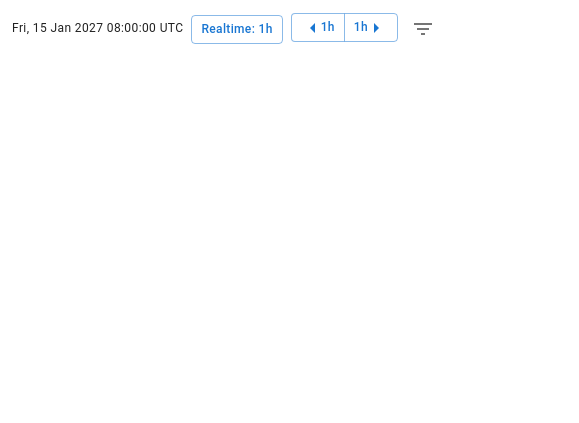
it: rejects custom durations that the metrics API cannot serve
Click the button "Realtime: 1h": (237, 29) [191,14,283,44]
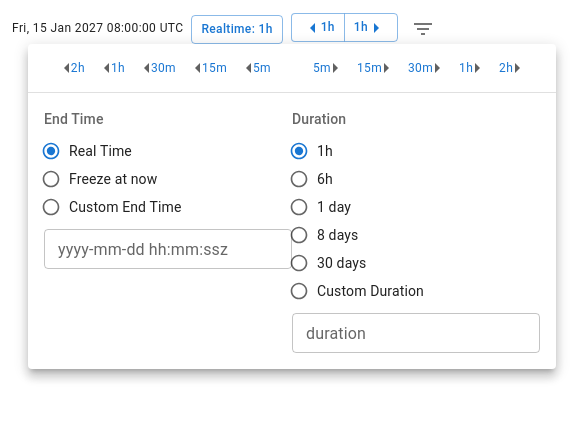
Click the radio button labelled "Custom Duration": (356, 291) [289,281,424,301]
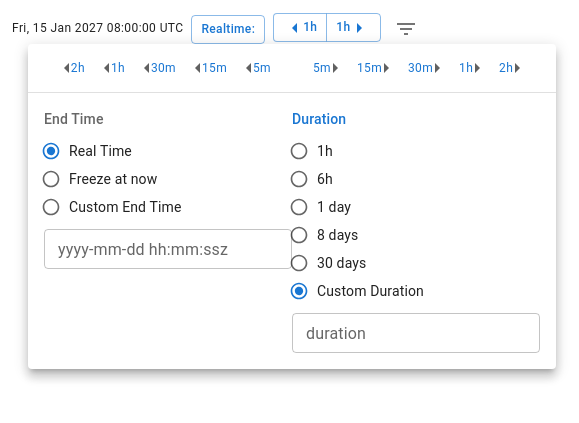
In the field labelled "duration": (416, 333) [292,313,540,353], type "744h"
Then press Enter
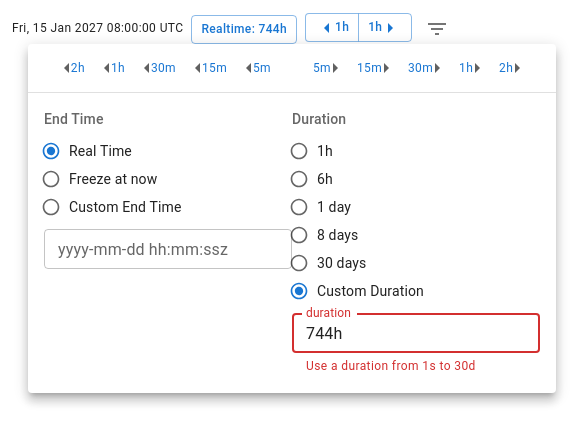
Result: the text "Use a duration from 1s to 30d" is shown at [306,359,476,373]
